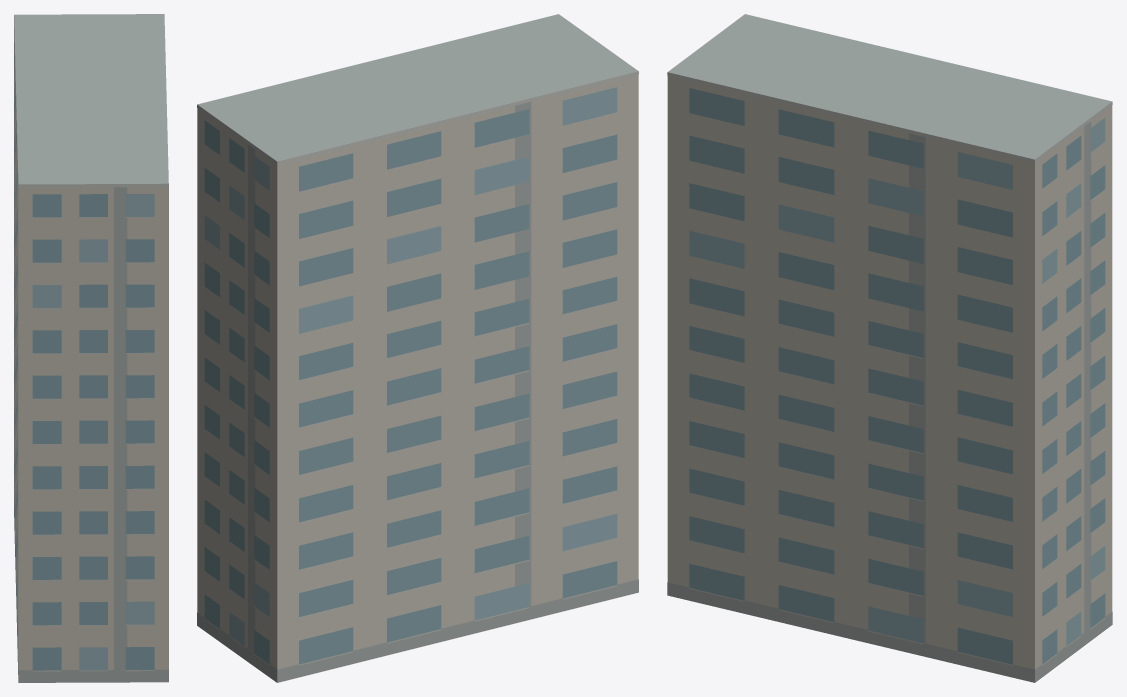
File: residential-0c80a001-e757-4521-9f8a-ec5b46fd8a7d.glb
3 renders of one model, left to right at view 1: azimuth 30°, elevation 25°; view 2: azimuth 150°, elevation 25°; view 3: azimuth 270°, elevation 25°, orthographic. The views are drawn at different scales.
Visible parts, largest first — view 1: residential-0c80a001-e757-4521-9f8a-ec5b46fd8a7d.tmp; view 2: residential-0c80a001-e757-4521-9f8a-ec5b46fd8a7d.tmp; view 3: residential-0c80a001-e757-4521-9f8a-ec5b46fd8a7d.tmp.
Boxes of the visible parts, box(x1,y1,x2,y2) form: residential-0c80a001-e757-4521-9f8a-ec5b46fd8a7d.tmp: box(14, 14, 168, 682); residential-0c80a001-e757-4521-9f8a-ec5b46fd8a7d.tmp: box(197, 14, 638, 682); residential-0c80a001-e757-4521-9f8a-ec5b46fd8a7d.tmp: box(667, 14, 1112, 682).
Bounding box in the file's own units: 21.49 × 36 × 27.75.
